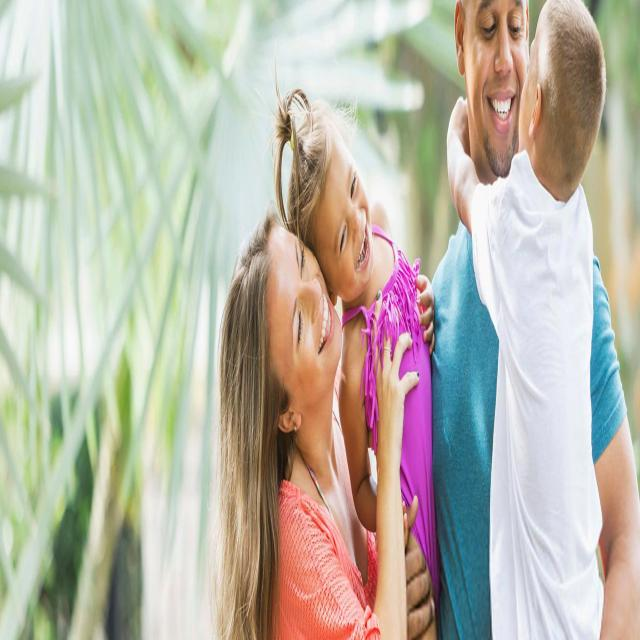adult: (425, 1, 640, 639), (218, 200, 410, 640)
child: (447, 0, 608, 640), (271, 66, 435, 633)
